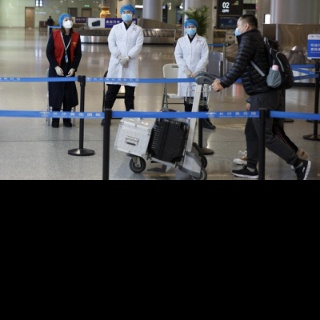with_mask: (121, 10, 132, 22), (234, 22, 243, 36), (62, 17, 73, 28), (186, 25, 196, 36)
